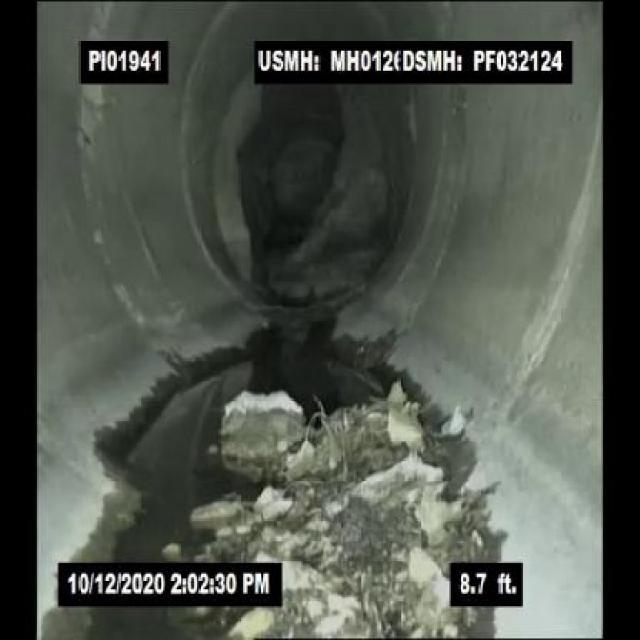Debris: (269, 388, 462, 555), (183, 355, 328, 474)
